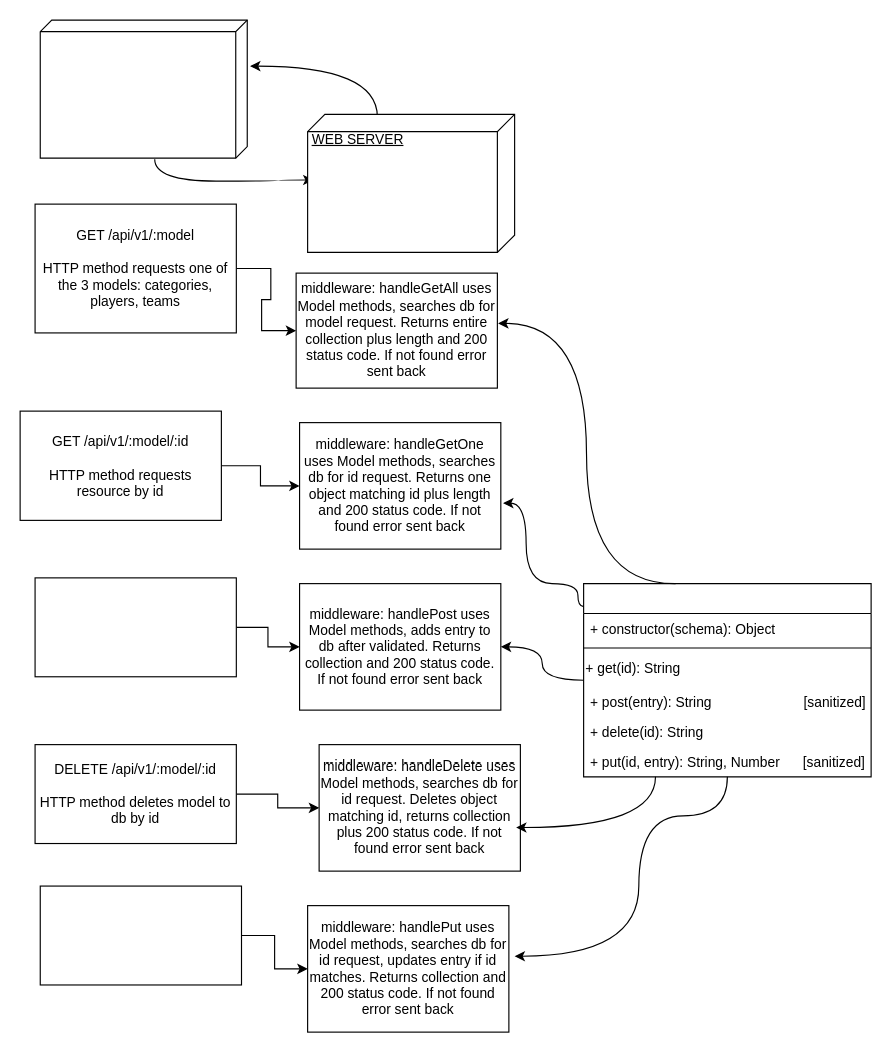
Some shapes in this 891 by 1052 pixel diagram are drawn without their labels. Here are the shapes that lost their labels. From the top down, the box of each, then its label:
(39, 19, 247, 158): WEB BROWSER
(34, 577, 236, 677): POST /api/v1/:model HTTP method adds entry to model db
(582, 582, 871, 777): class Model
(39, 885, 241, 985): PUT /api/v1/:model/:id HTTP method updates entry to db by id
